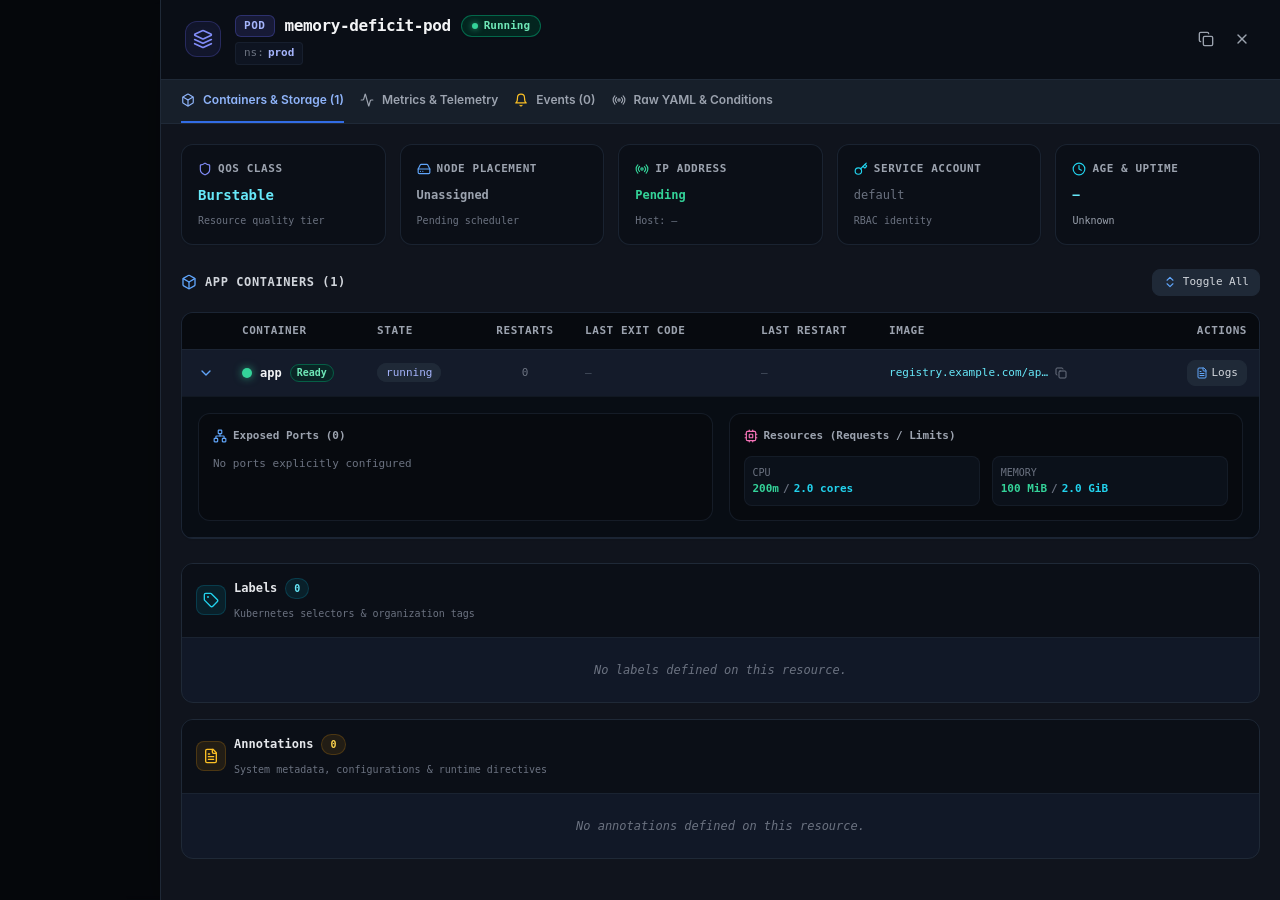
Test: Comprehensive Modals and Interactive Actions Suite › renders SRE Right-Sizing Advisory with Memory Request Deficit when memory usage exceeds request
Expected: the heading "memory-deficit-pod" is shown, [284,14,451,38]
Click the button "Metrics & Telemetry".
click(429, 101)  # box [360,80,498,122]
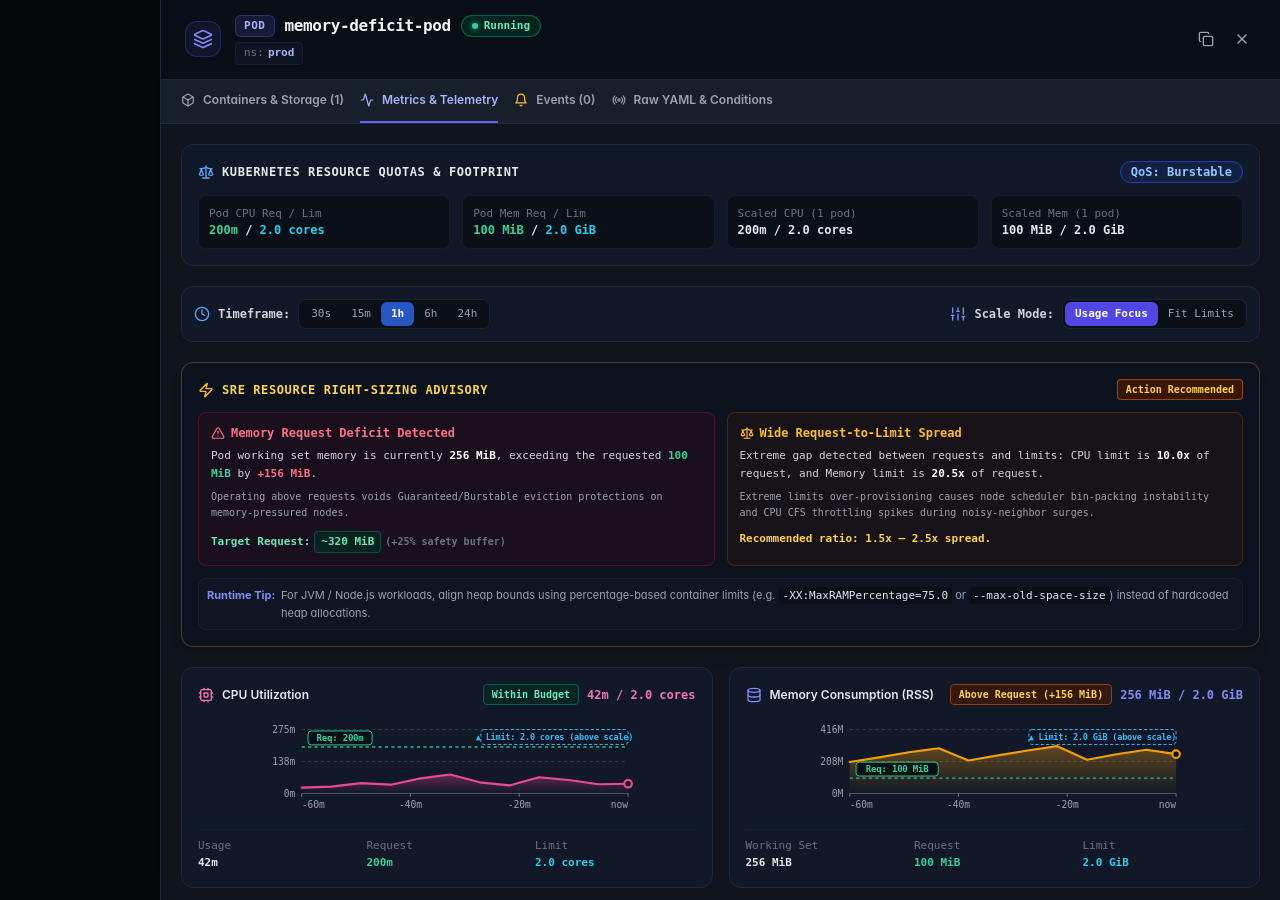
Now the text "SRE Resource Right-Sizing Advisory" is shown, box [222,382,488,398]
Now the text "Memory Request Deficit Detected" is shown, box [231,425,455,441]
Now the text "Operating above requests voids Guaranteed/Burstable eviction protections" is shown, box [211,491,662,518]
